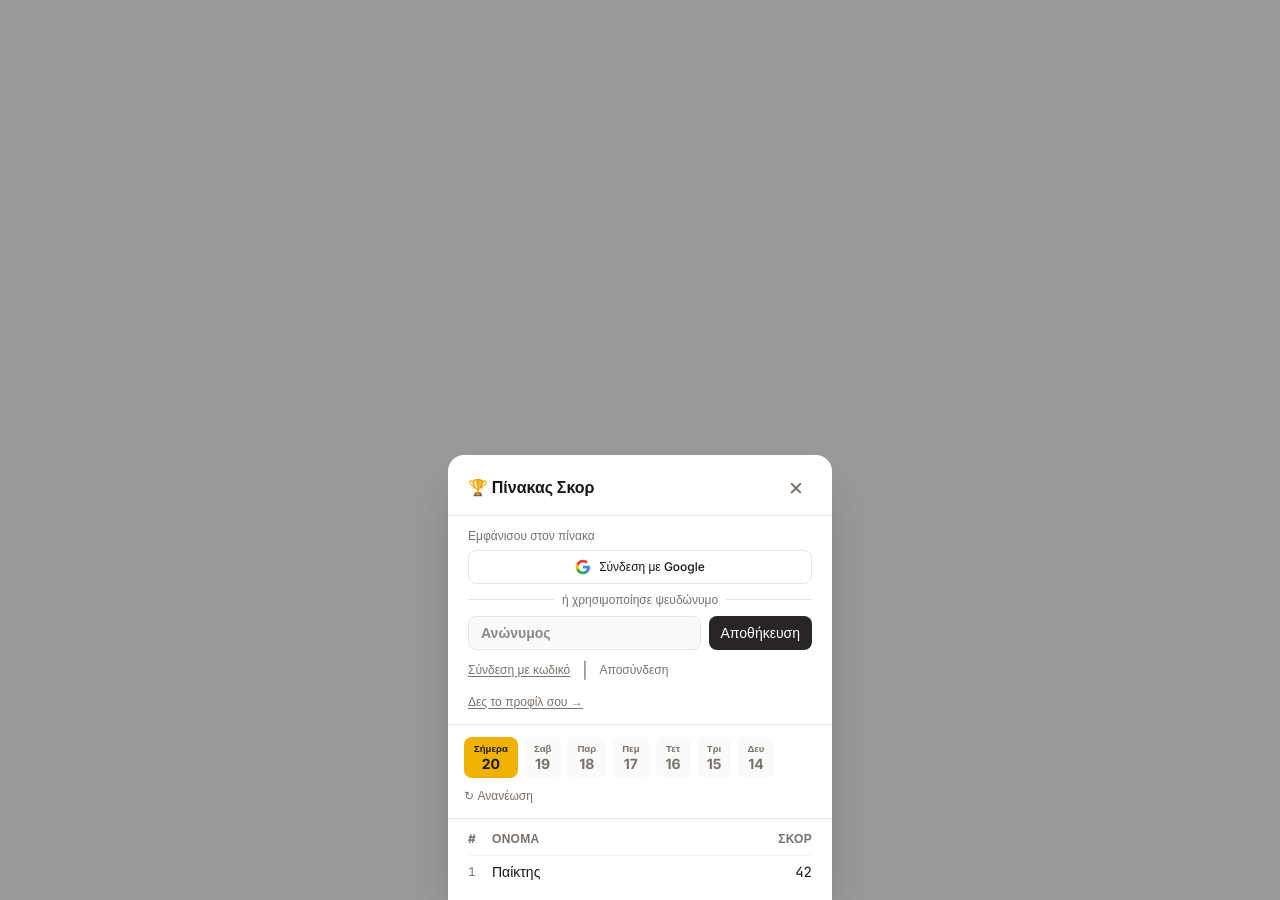
Test: LeaderboardModal — the empty-day message across a day switch › shows the message after switching from a played day to an unplayed one
Check: the text "Κανείς δεν έχει παίξει" is not shown
Click the button with aria-label "2026-09-19" at (543, 757), box [524, 736, 561, 778]
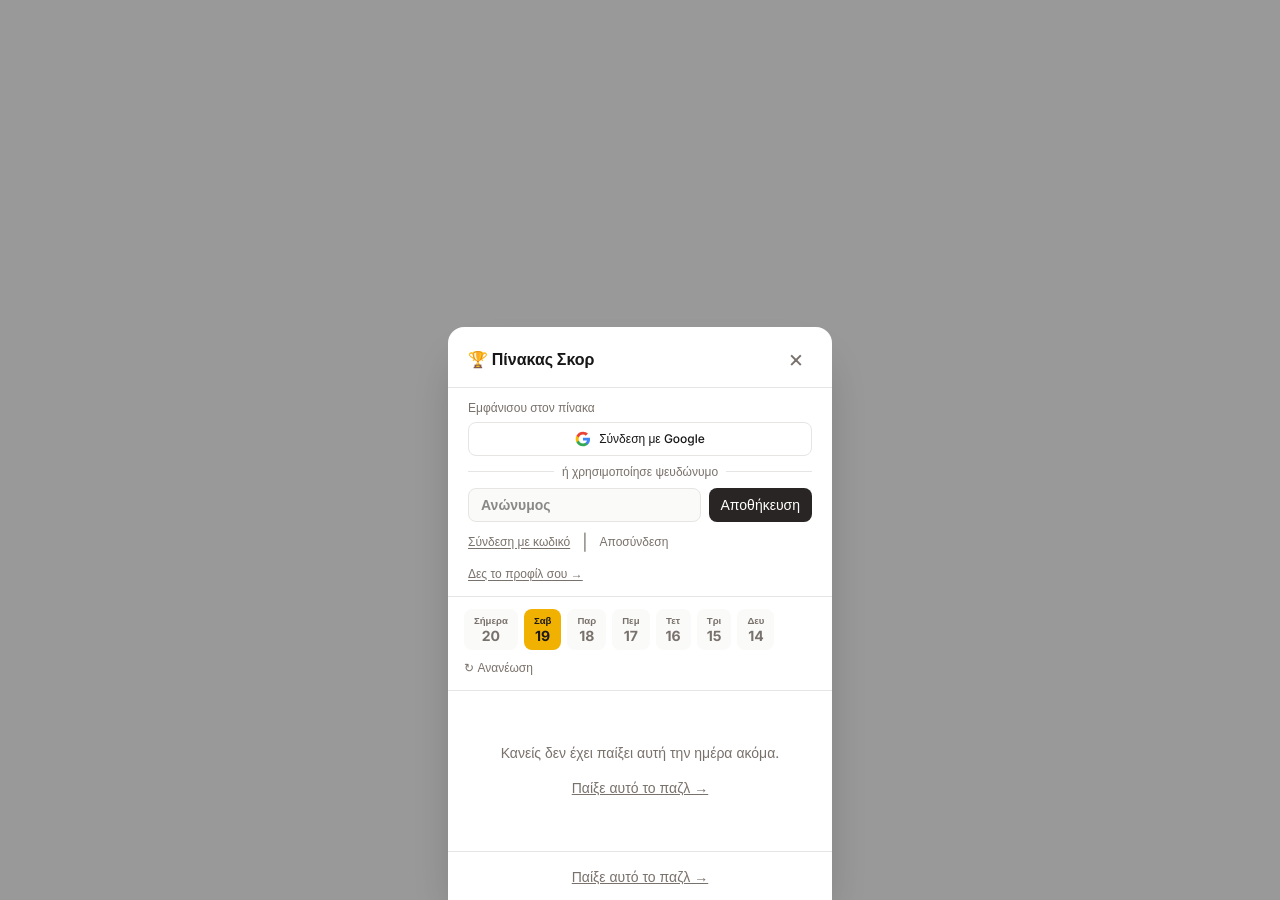
Check: the text "Κανείς δεν έχει παίξει αυτή την ημέρα ακόμα." is shown, box [501, 744, 779, 761]
